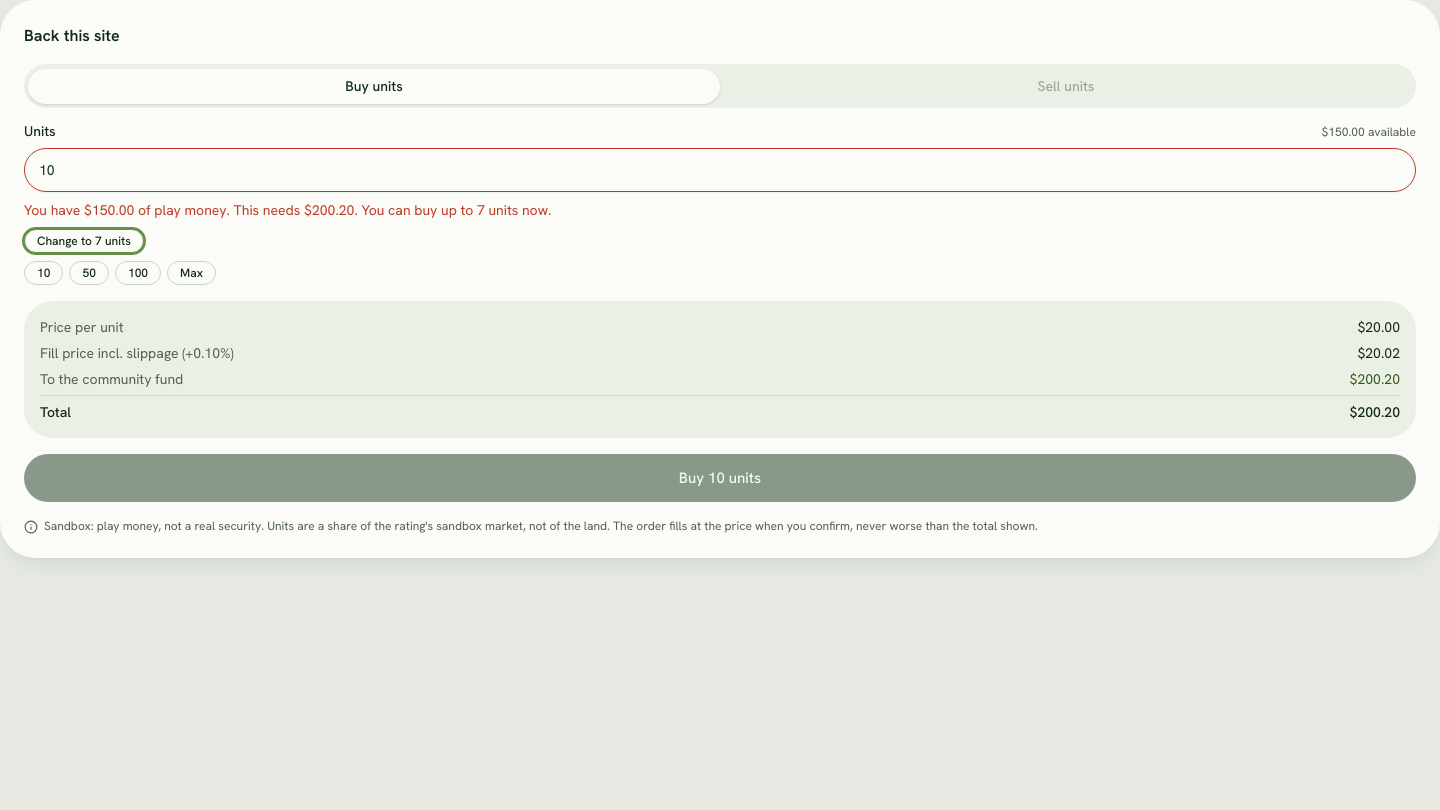
Scenario: TradePanel › says how many units the cash covers, and fixes the order in one tap
Check: the element named "Quote" shows "$200.20", box [1350, 370, 1400, 388]
Click the button "Change to 7 units" at (84, 241), box [24, 229, 144, 253]
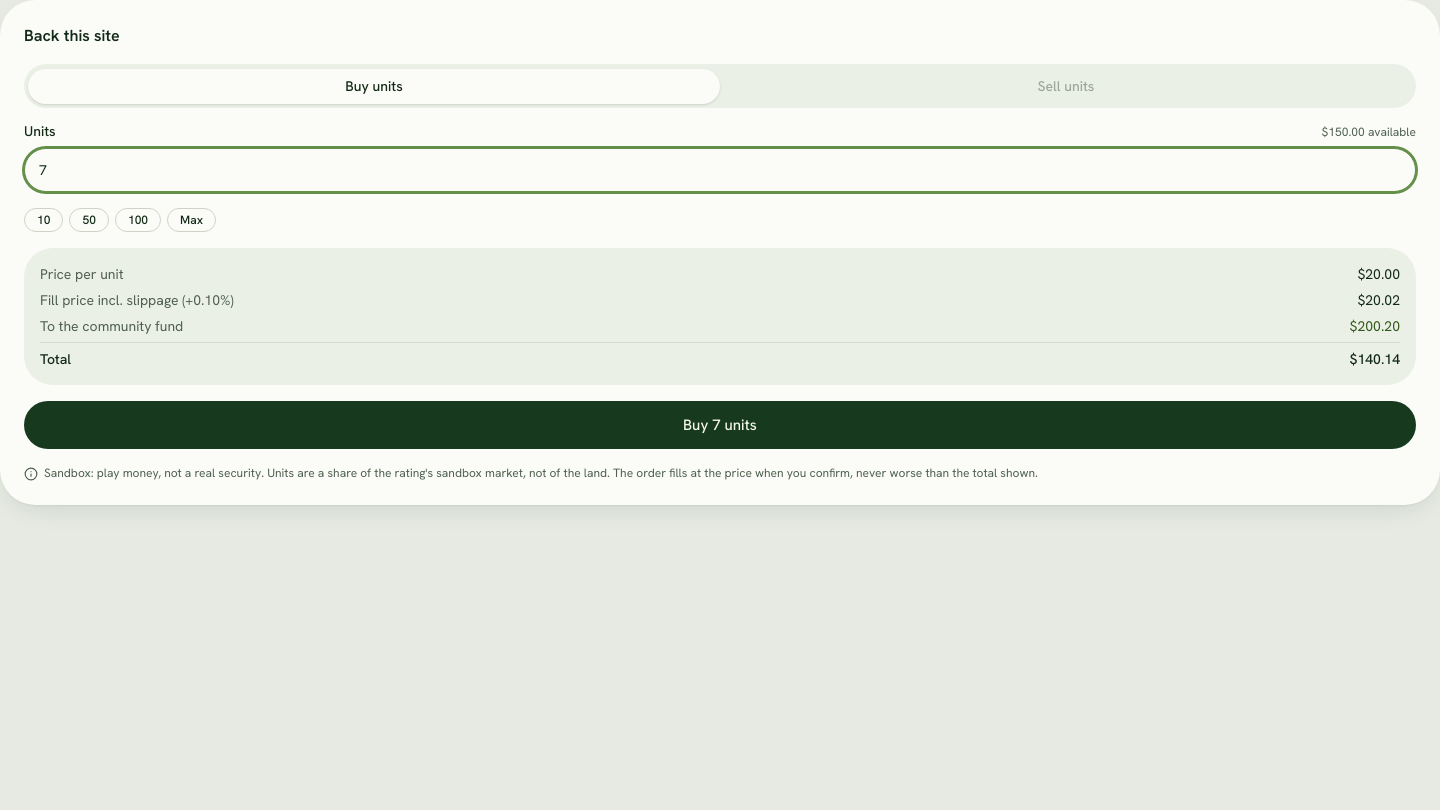
Check: the field labelled "Units" holds "7", box [24, 148, 1416, 192]
Check: the button "Change to" is gone
